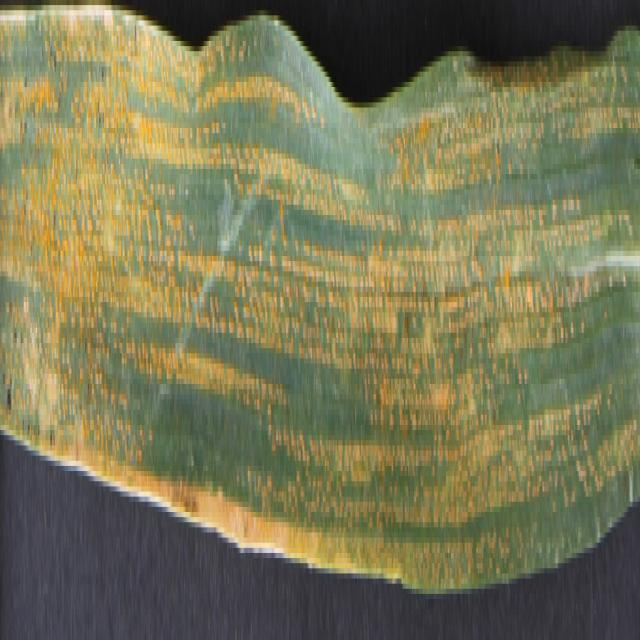leaf rust: (1, 5, 637, 574)
